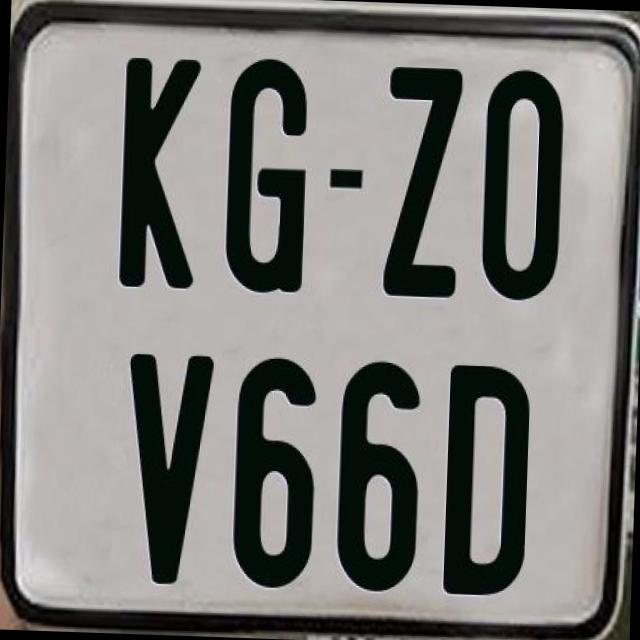0: (476, 68, 570, 306)
6: (229, 356, 323, 594), (330, 356, 420, 596)
D: (442, 364, 534, 606)
G: (222, 54, 308, 296)
K: (117, 52, 208, 284)
V: (120, 354, 216, 590)
Z: (378, 66, 464, 304)
